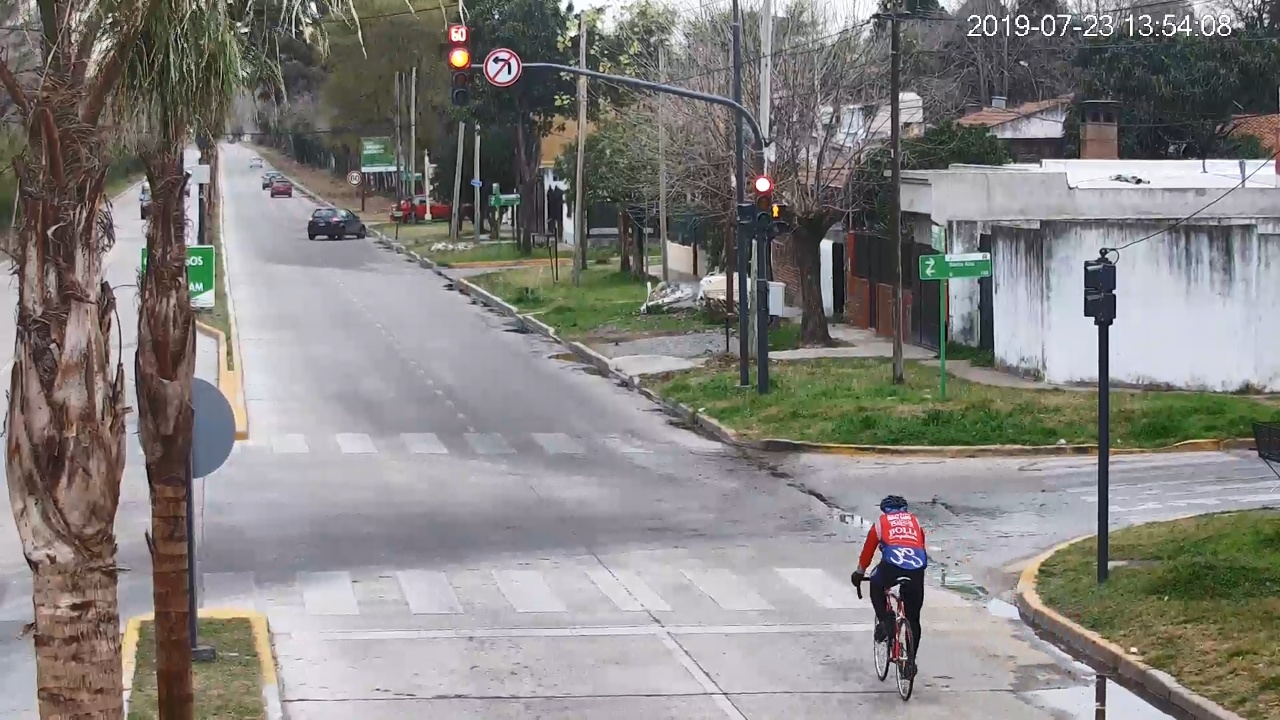bicycle: (852, 495, 929, 701)
traffic light: (449, 45, 473, 104), (755, 176, 771, 226)
